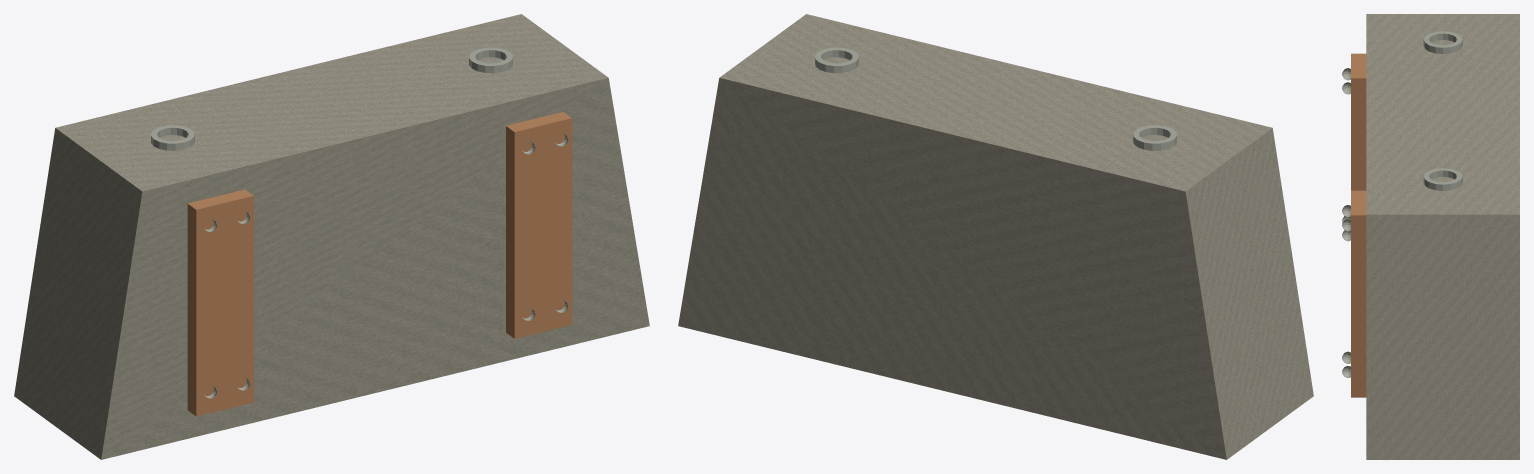
Rendered from reclamation-yard-repaired-road-barricade__219.glb.
3 views of the same model, side by side, from view 1: azimuth 30°, elevation 25°; view 2: azimuth 150°, elevation 25°; view 3: azimuth 270°, elevation 25° (orthographic). The views are drawn at different scales.
Visible parts, largest first — view 1: stone, accent, metal; view 2: stone, metal; view 3: stone, accent, metal.
Part boxes in pixels (x1,y1,x2,y2): stone: [14, 14, 649, 459]; accent: [187, 112, 572, 416]; metal: [151, 47, 568, 398]; stone: [678, 14, 1313, 459]; metal: [815, 47, 1176, 150]; stone: [1366, 14, 1519, 459]; accent: [1351, 53, 1366, 397]; metal: [1342, 31, 1462, 377].
Size of the model in its own units: 2 by 0.925 by 0.637.
Materials: 3 (1 with a texture image).
